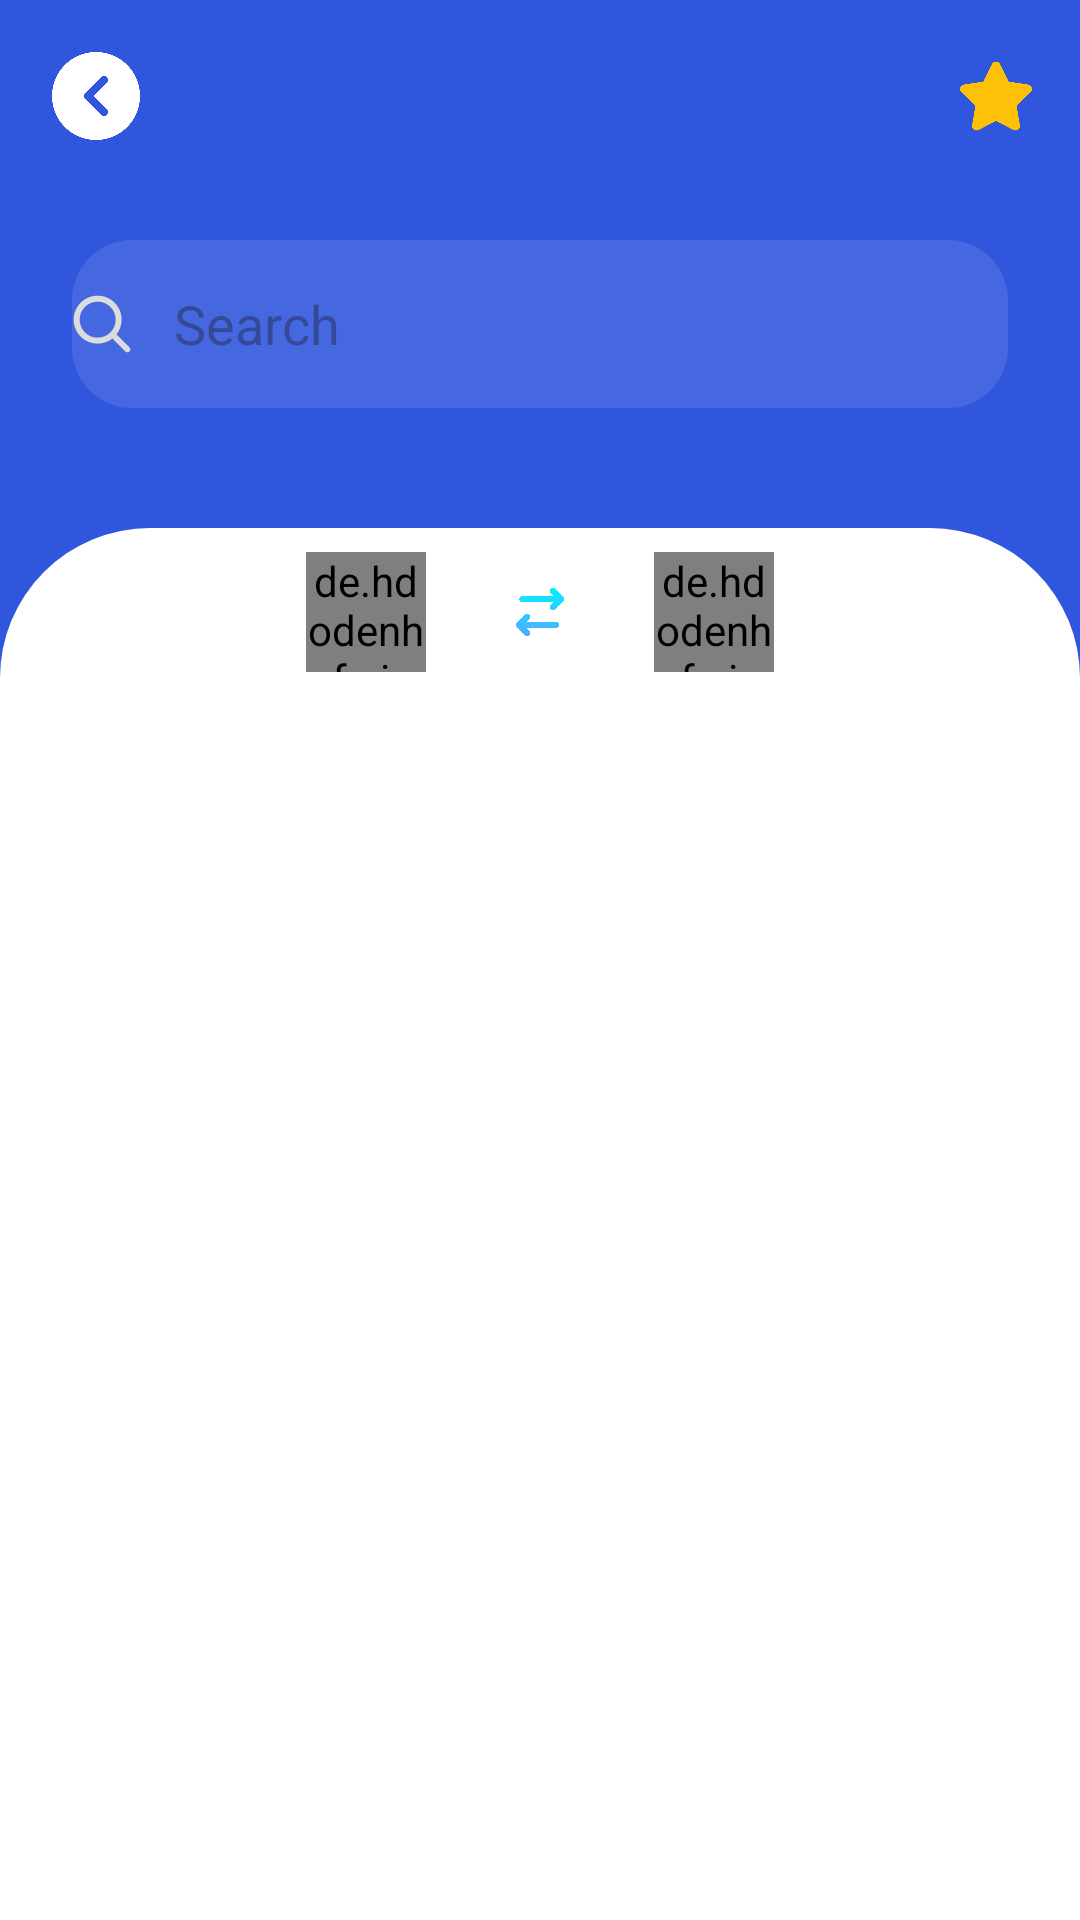

Icons on this 1080x1920 Android screen, each with the point to tap as (x=x, y=y):
left and right: (x=540, y=612)
yulduz: (x=996, y=96)
